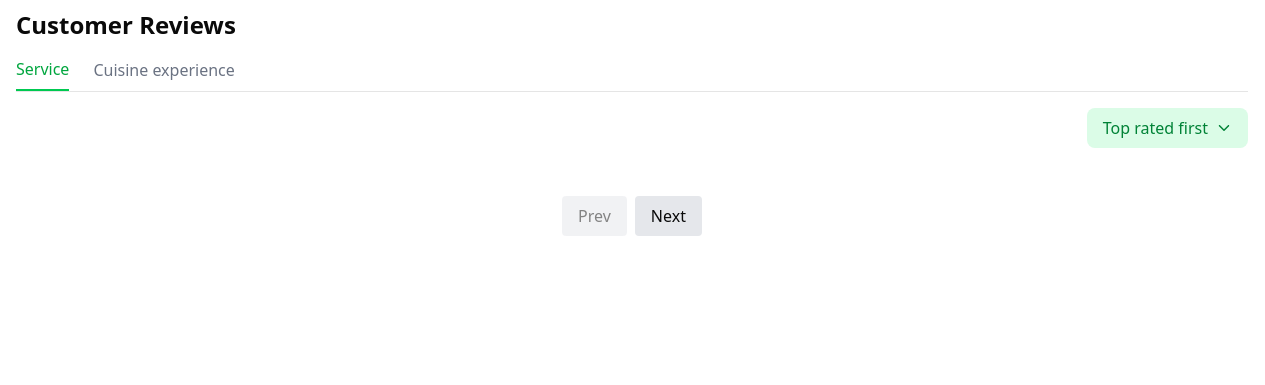
CustomerReviews › opens and selects sort option
Click the button "Top rated first".
click(1167, 128)  # box x1=1087 y1=108 x2=1248 y2=148
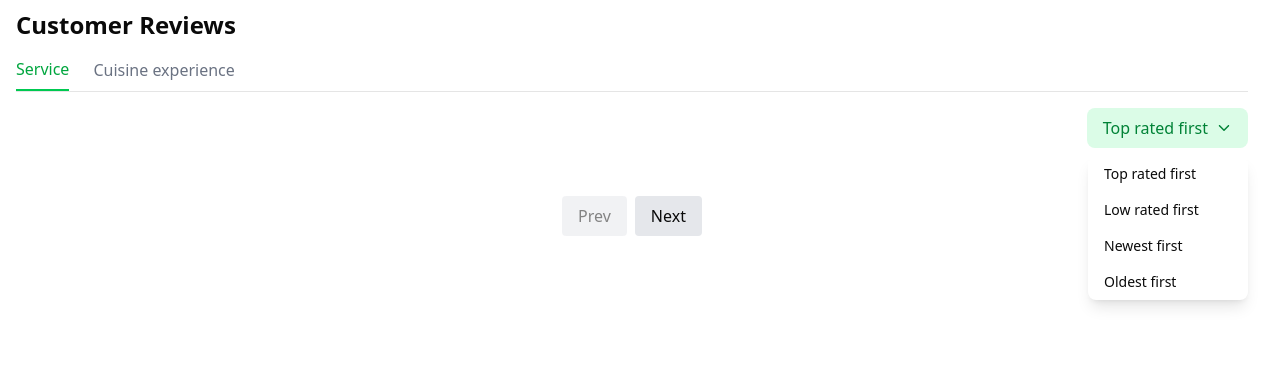
Click the button "Newest first".
click(1168, 246)  # box x1=1088 y1=228 x2=1248 y2=264
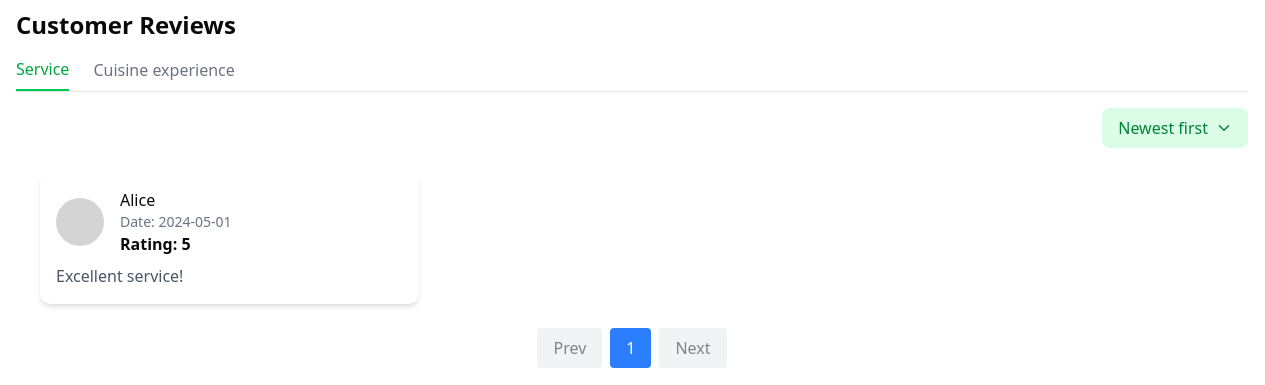
Check: the heading "Alice" is shown, box x1=120 y1=189 x2=155 y2=211
